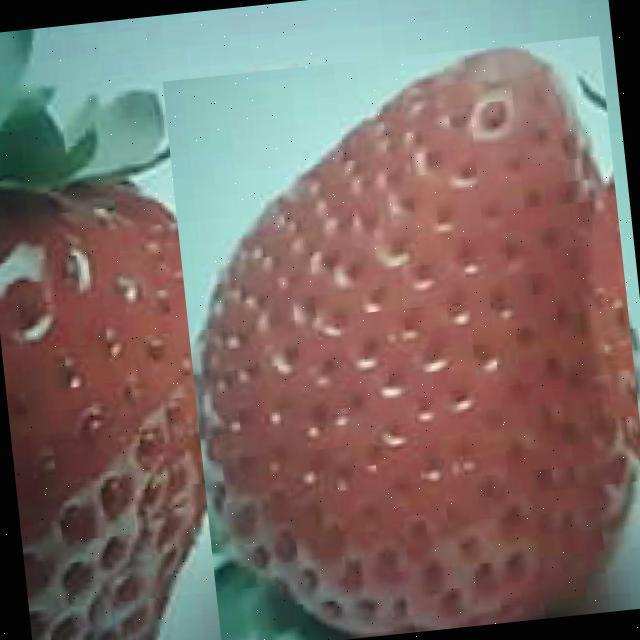ripe: (162, 35, 640, 640), (0, 150, 246, 640)
